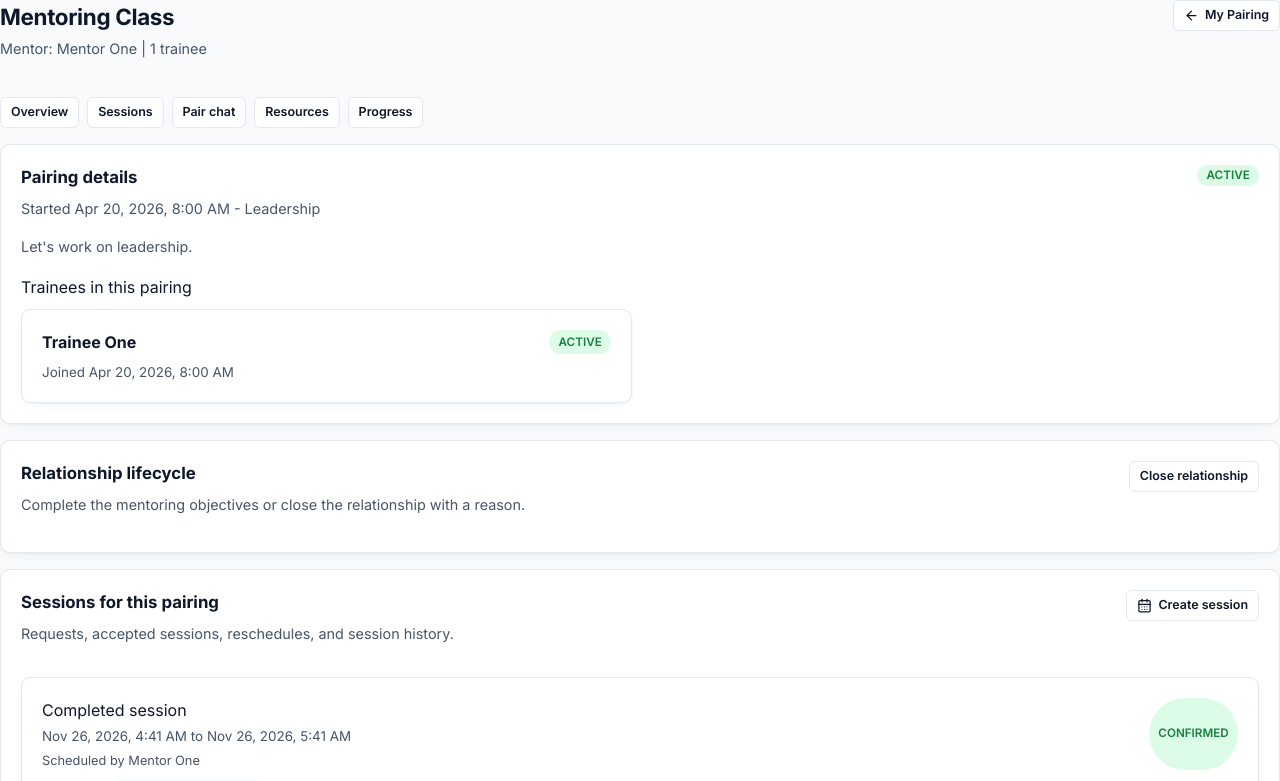
Test: MentoringPairingDetailPage › lets the mentor submit an end-of-session report and displays the saved report
This screenshot has width=1280, height=781.
Step 1. Click the tab "Sessions" → (125, 113), box [87,97,164,128]
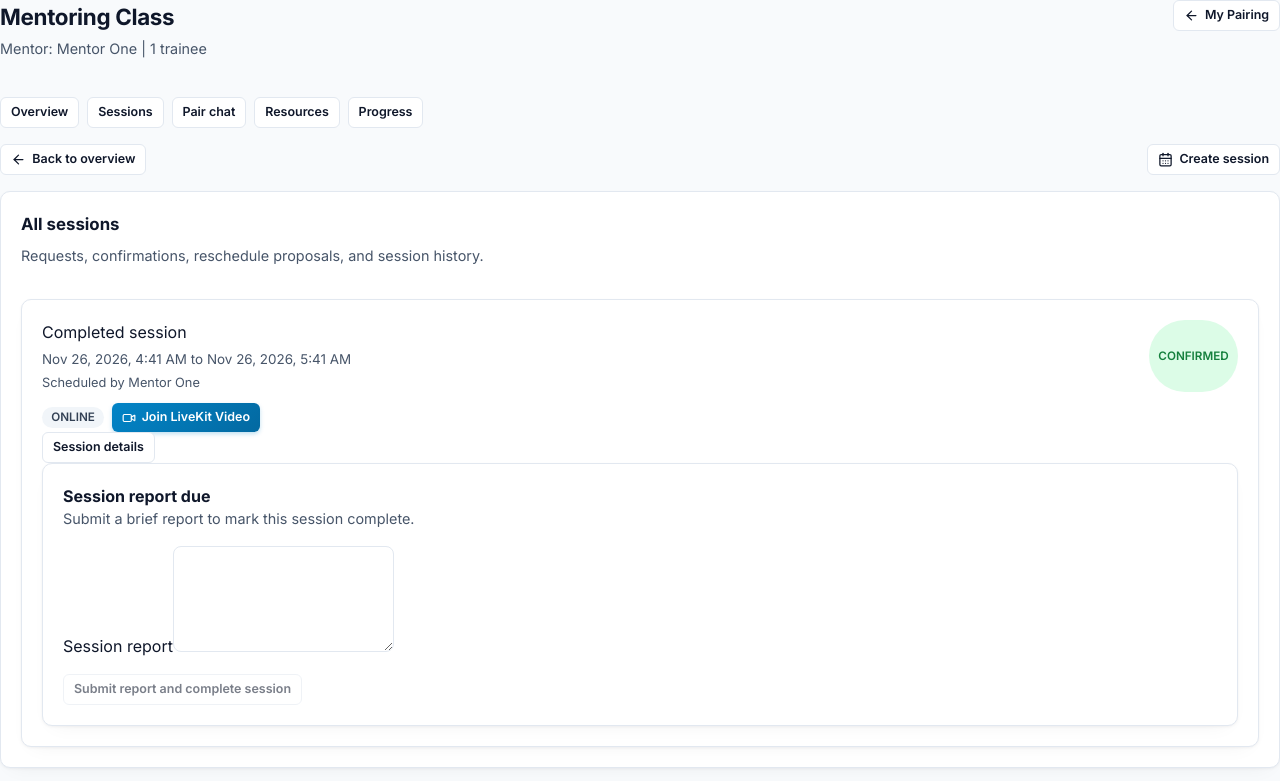
Step 2. Type "Reviewed goals and next steps." into the text box labelled "Session report" → (283, 599), box [173,546,394,652]
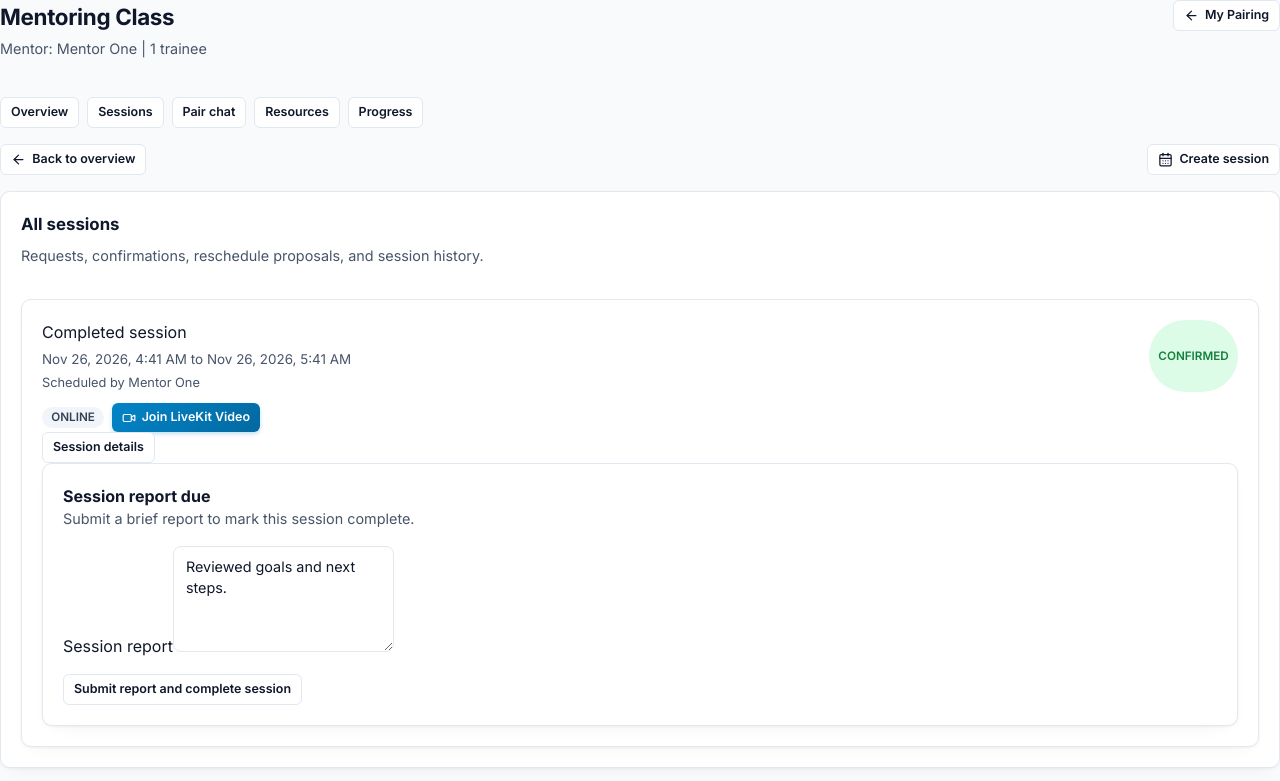
Check: the button "Submit report and complete session" is enabled
Step 3. Click the button "Submit report and complete session" → (182, 689), box [63,674,302,705]
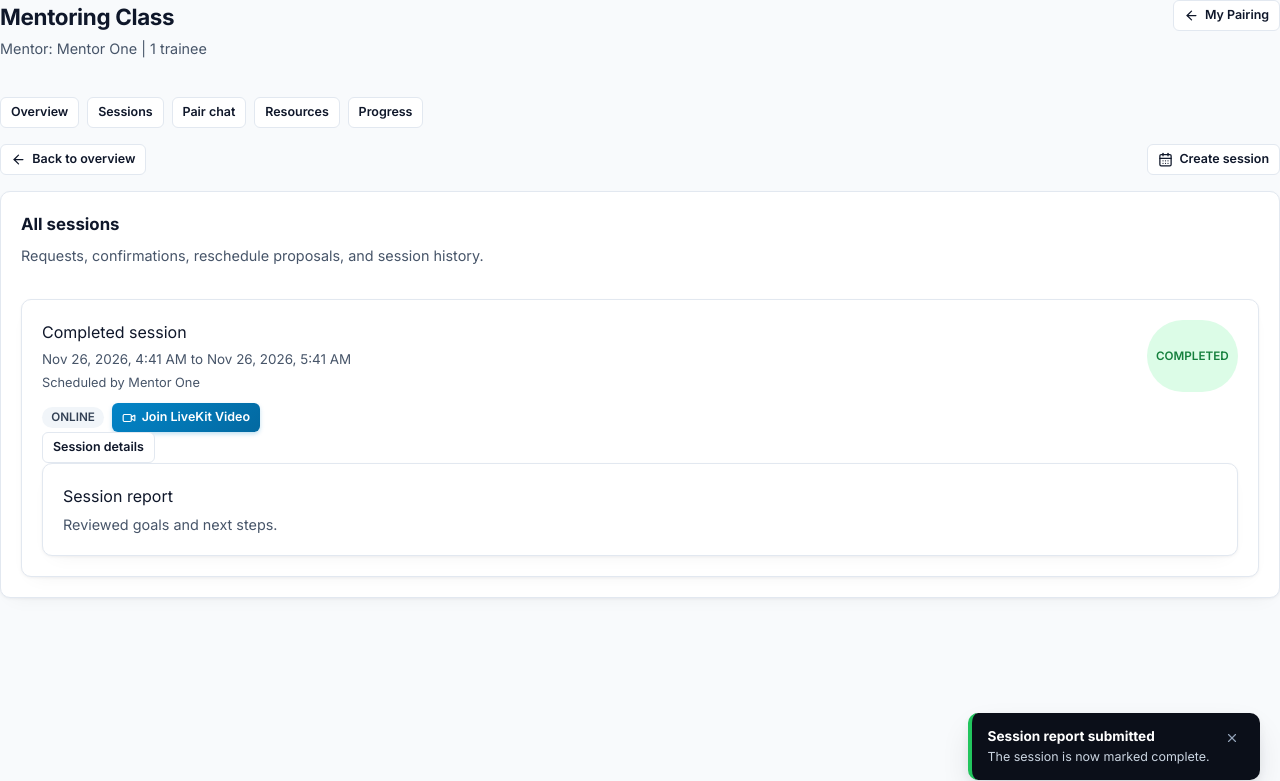
Check: the element "Session report" shows "Reviewed goals and next steps.", box [63,516,278,533]
